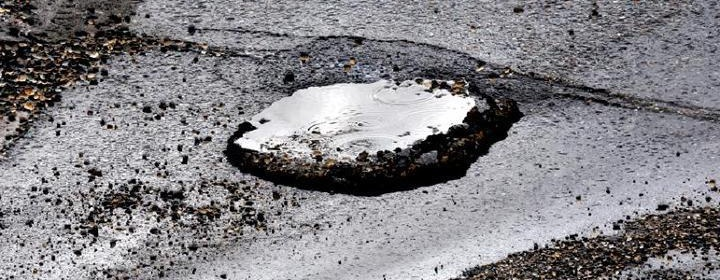pothole: (215, 76, 528, 201)
